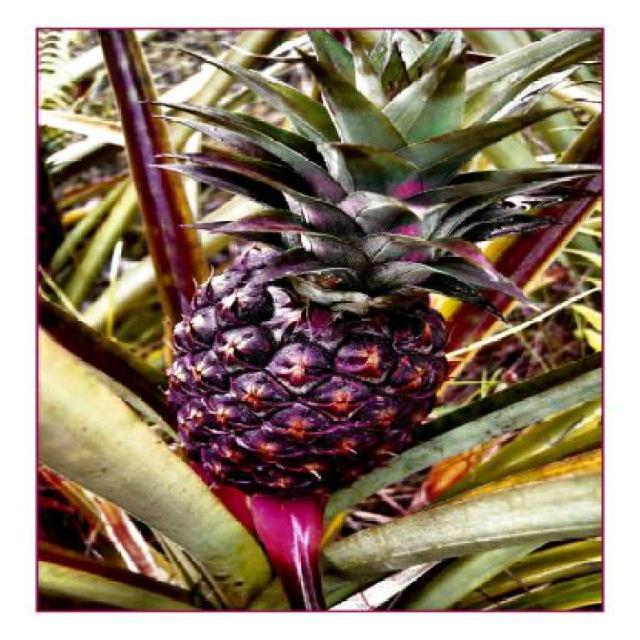Pineapple: (136, 21, 602, 500)
